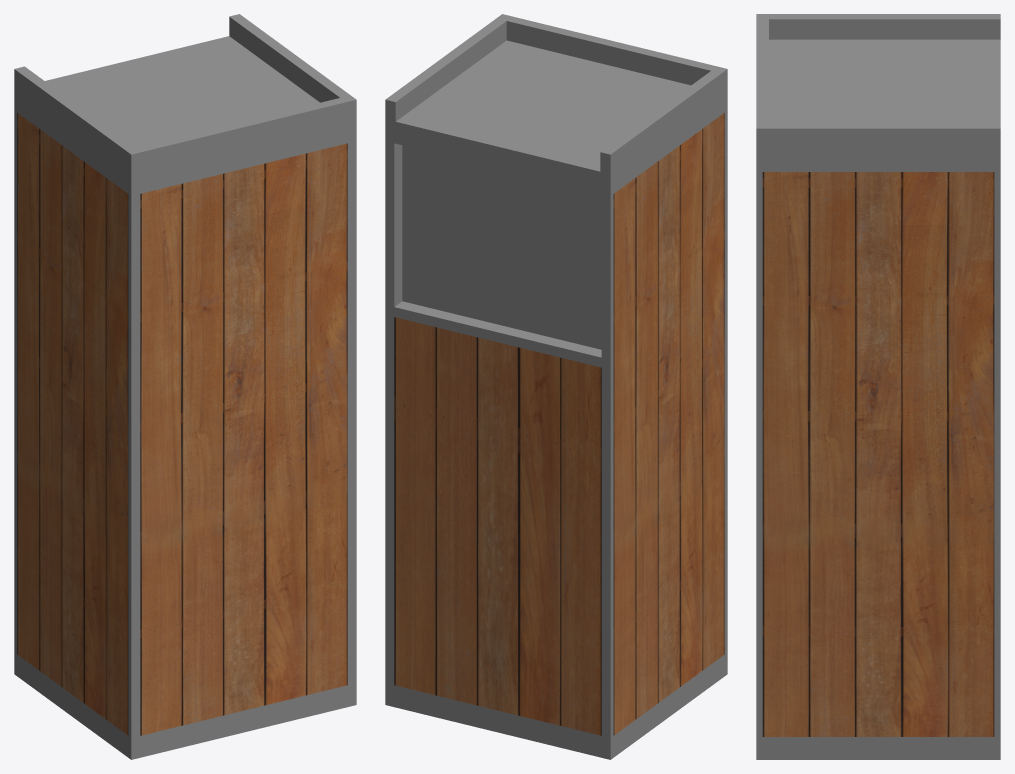
Rendered from trash_can_b_002.FBX.
The picture shows the model from 3 angles, left to right: view 1: azimuth 30°, elevation 25°; view 2: azimuth 150°, elevation 25°; view 3: azimuth 270°, elevation 25°; orthographic projection. The views are drawn at different scales.
Visible parts, largest first — view 1: trash_can_b_002; view 2: trash_can_b_002; view 3: trash_can_b_002.
Boxes of the visible parts, x1=… form: trash_can_b_002: x1=14, y1=14, x2=356, y2=759; trash_can_b_002: x1=385, y1=14, x2=727, y2=759; trash_can_b_002: x1=756, y1=14, x2=1000, y2=759.
Bounding box in the file's own units: 54.92 × 141 × 49.44.
